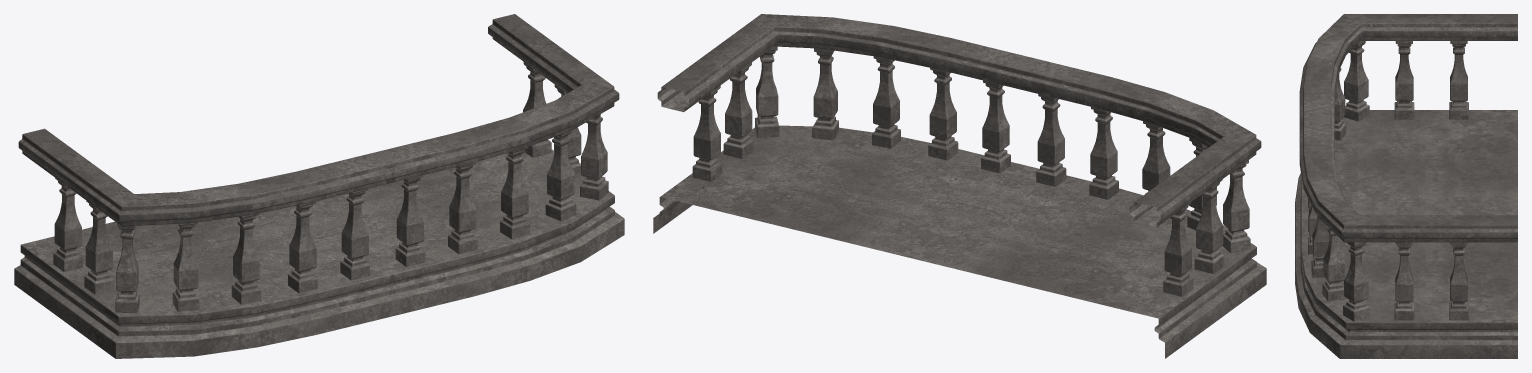
File: SK7 DECOR 1.fbx
The picture shows the model from 3 angles, left to right: view 1: azimuth 30°, elevation 25°; view 2: azimuth 150°, elevation 25°; view 3: azimuth 270°, elevation 25°; orthographic projection. The views are drawn at different scales.
Parts seen in each view (by area): view 1: SK7 DECOR 1; view 2: SK7 DECOR 1; view 3: SK7 DECOR 1.
Boxes of the visible parts, x1,y1,x2,y2 form: SK7 DECOR 1: (14, 14, 624, 358); SK7 DECOR 1: (653, 14, 1266, 358); SK7 DECOR 1: (1295, 14, 1517, 358).
Size of the model in its own units: 359 by 100 by 155.
